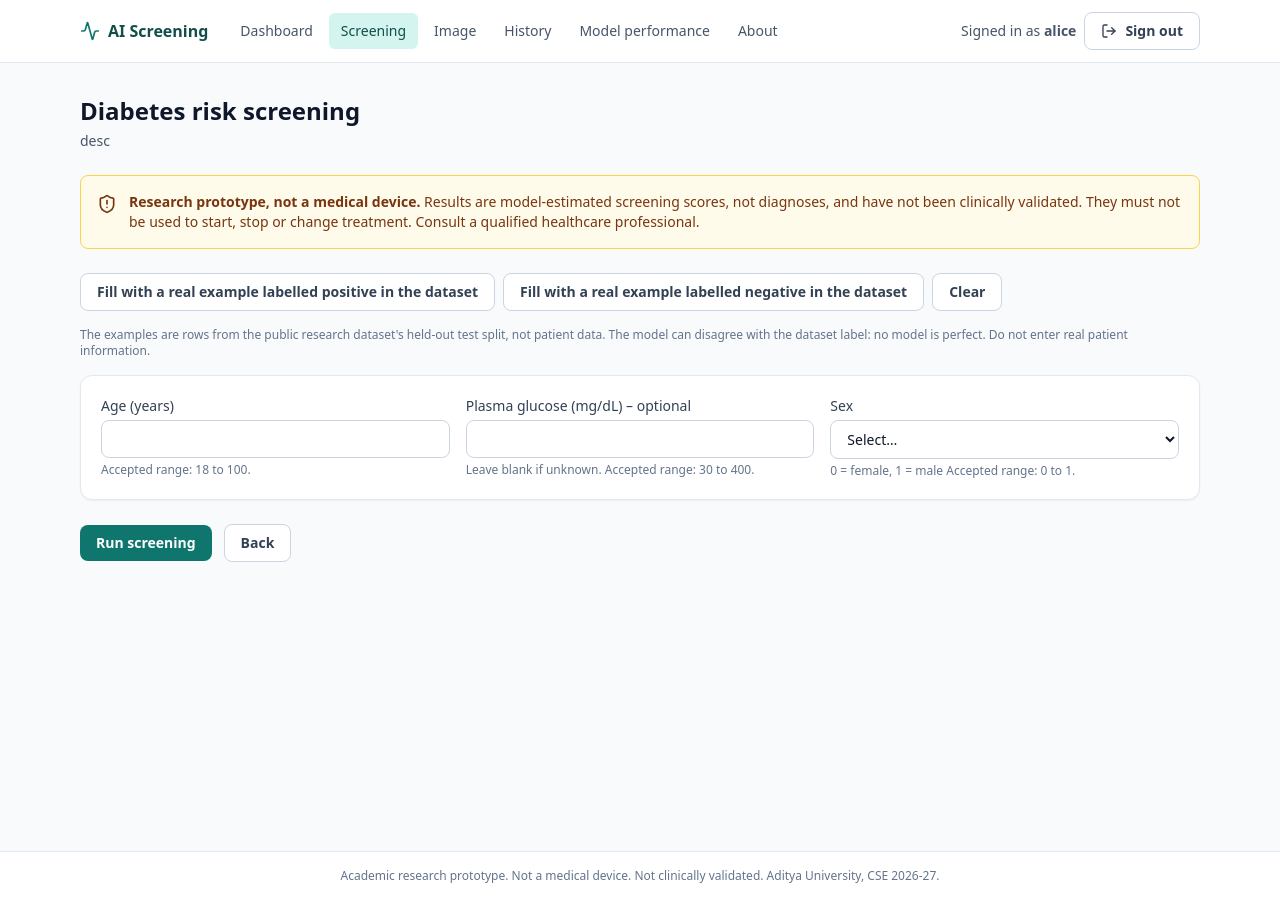
Test: module selection and screening form › shows server-side validation errors without losing the form
Step 1. Type "45" into the number field labelled "Age (years)" → (275, 439), box left=101, top=420, right=450, bottom=458
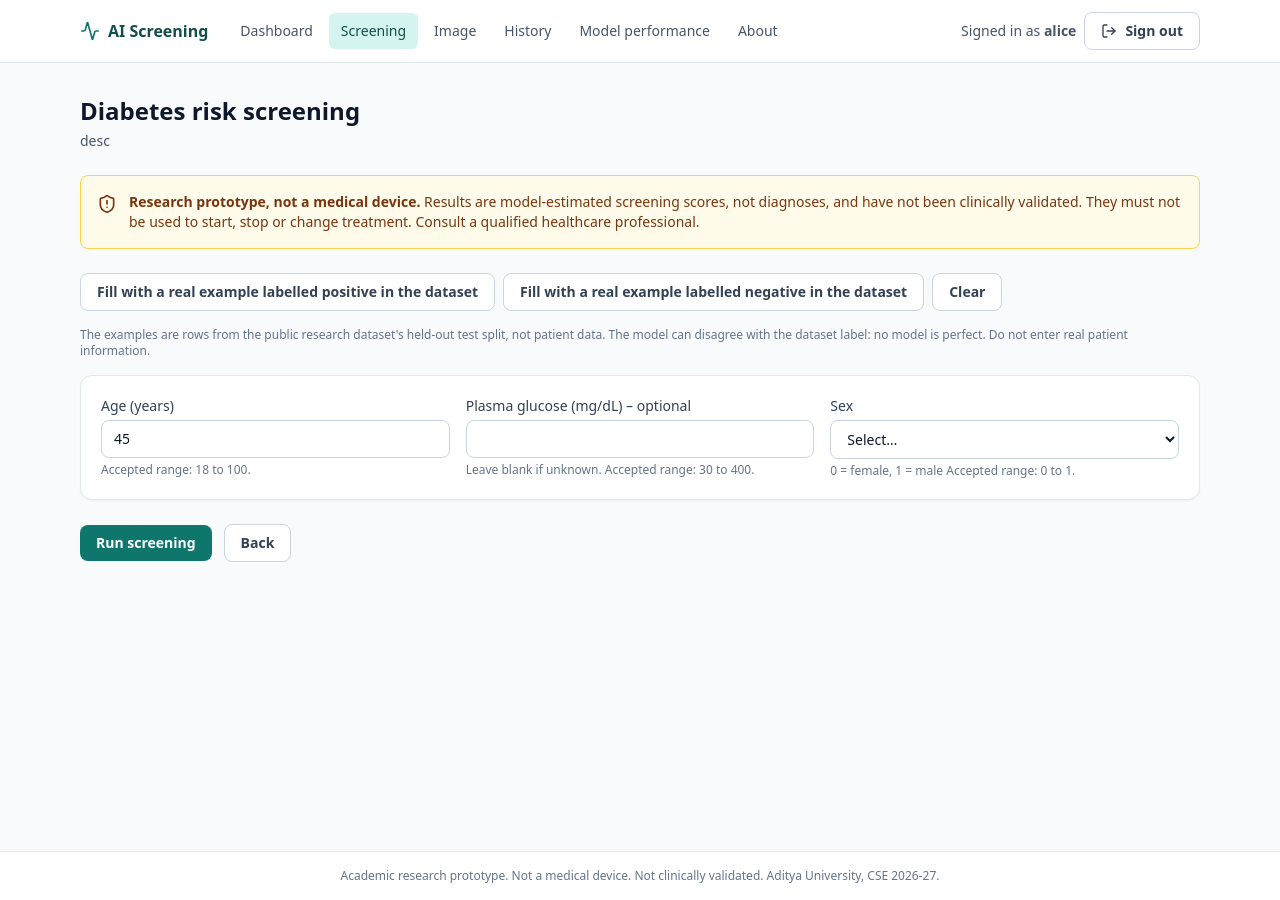
Step 2. Select "0" in the dropdown labelled "Sex" → (1005, 440), box left=830, top=420, right=1179, bottom=459
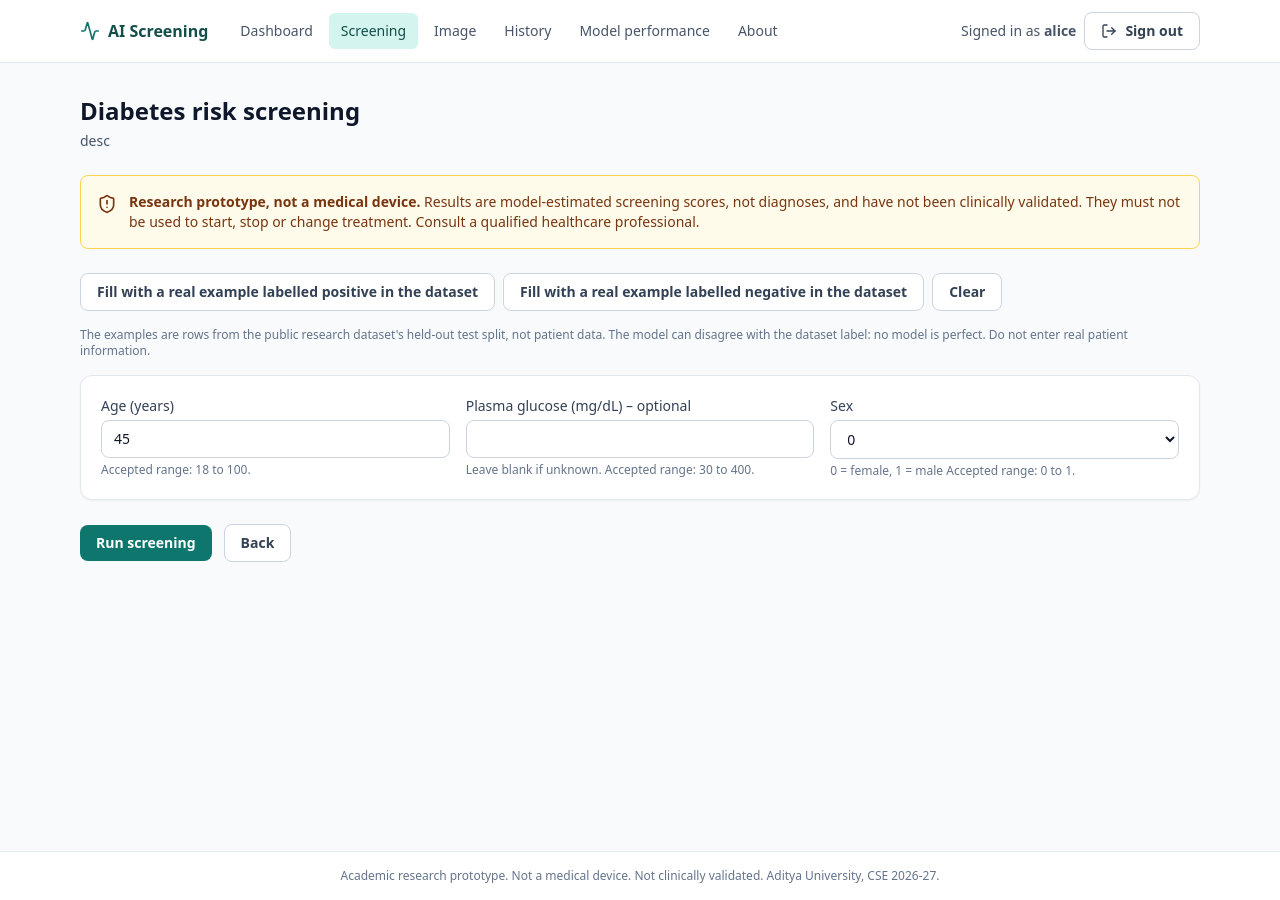
Step 3. Click the button "Run screening" → (146, 543), box left=80, top=525, right=212, bottom=561
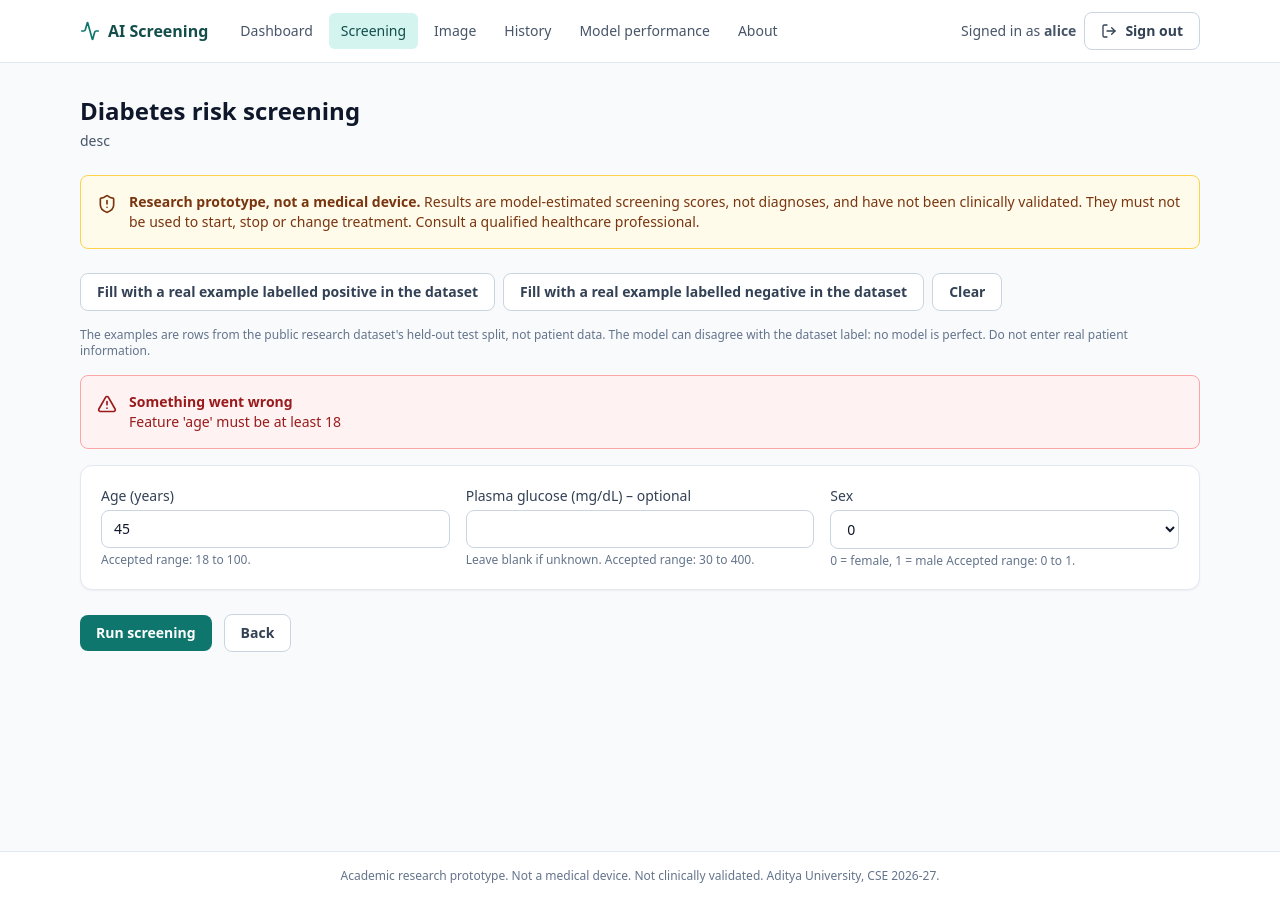
Expected: the text "Feature 'age' must be at least 18" is shown, left=129, top=412, right=341, bottom=431
